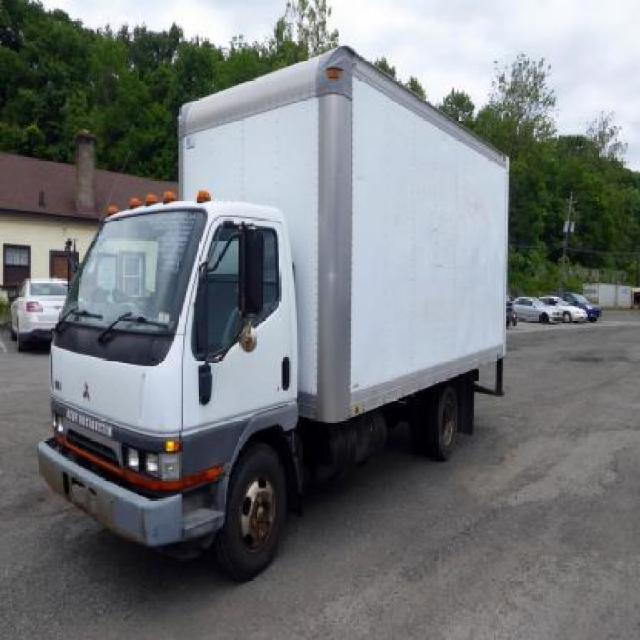truck: (38, 49, 519, 578)
